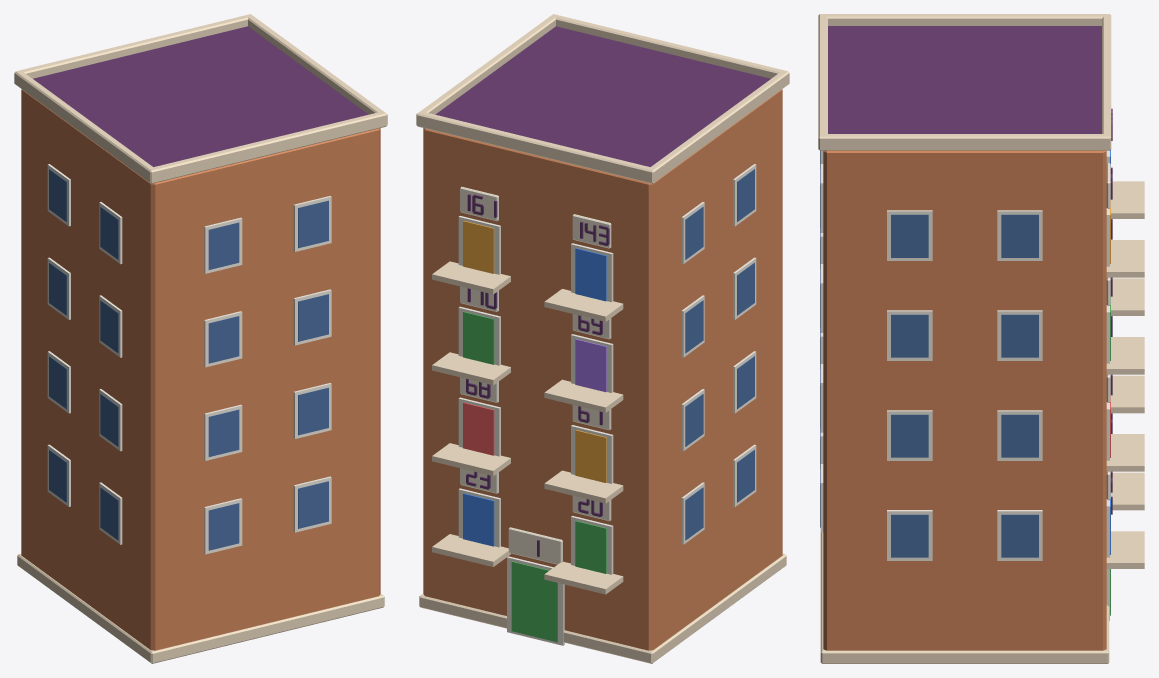
File: bld_d4_c.glb
3 renders of one model, left to right at view 1: azimuth 30°, elevation 25°; view 2: azimuth 150°, elevation 25°; view 3: azimuth 270°, elevation 25°, orthographic. The views are drawn at different scales.
Visible parts, largest first — view 1: bld_d4_c; view 2: bld_d4_c; view 3: bld_d4_c.
Part boxes in pixels (x1,y1,x2,y2): bld_d4_c: (14,14,387,663); bld_d4_c: (416,14,789,663); bld_d4_c: (818,14,1144,663).
Size of the model in its own units: 9.3 by 18.6 by 10.35.
